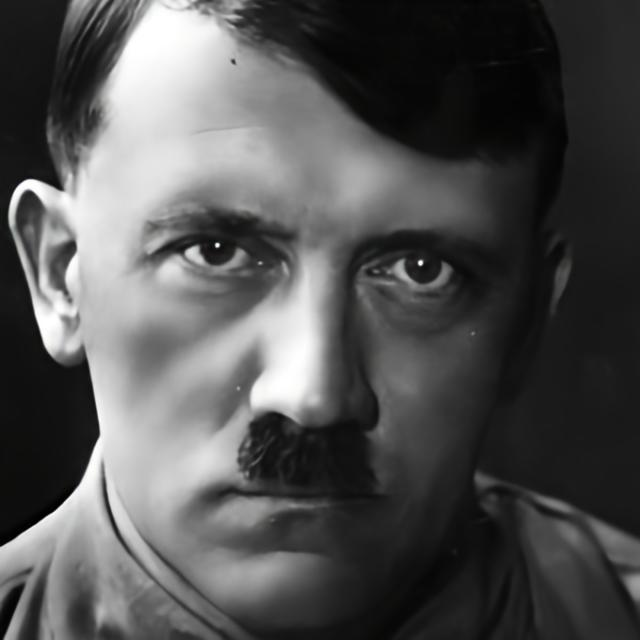anger: (78, 98, 514, 632)
